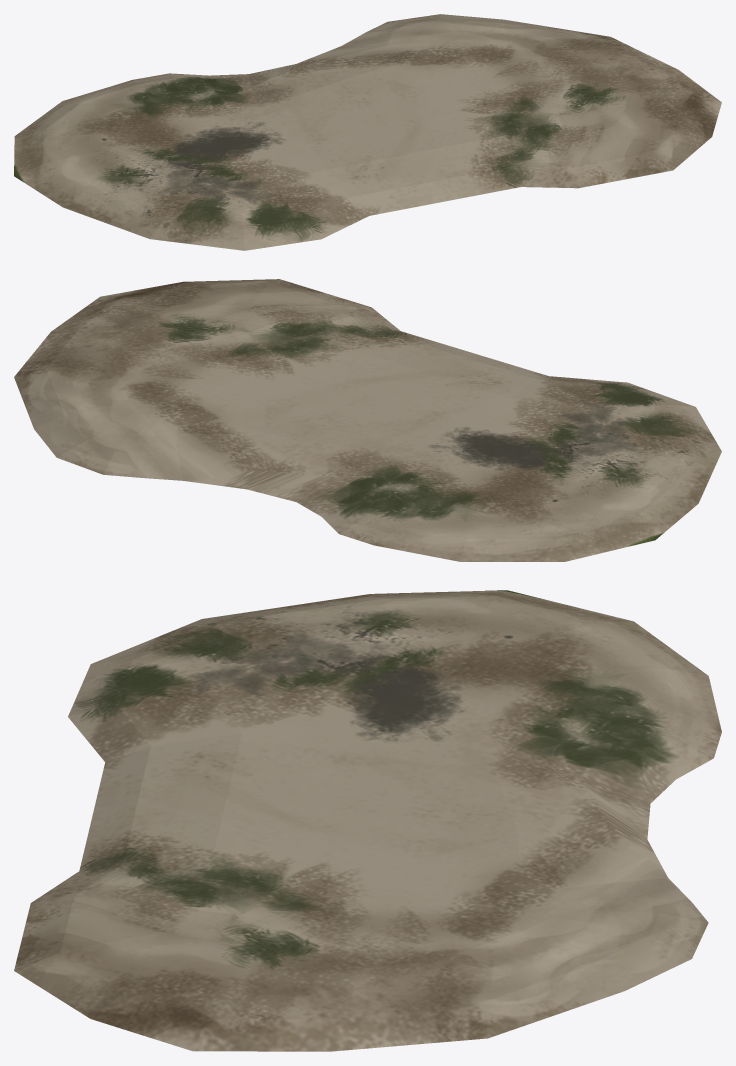
Rendered from Sand1.fbx.
3 renders of one model, top to bottom at view 1: azimuth 30°, elevation 25°; view 2: azimuth 150°, elevation 25°; view 3: azimuth 270°, elevation 25°, orthographic. The views are drawn at different scales.
Parts seen in each view (by area): view 1: smETC0610066; view 2: smETC0610066; view 3: smETC0610066.
Boxes of the visible parts, box(x1,y1,x2,y2) form: smETC0610066: box(14, 14, 721, 250); smETC0610066: box(14, 279, 721, 561); smETC0610066: box(14, 590, 721, 1051).
Bounding box in the file's own units: 3642 × 84.51 × 2362.
1 material, 1 textured.
